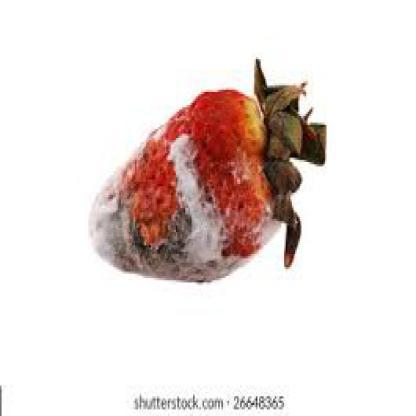strawberry_rotten: (82, 42, 332, 306)
